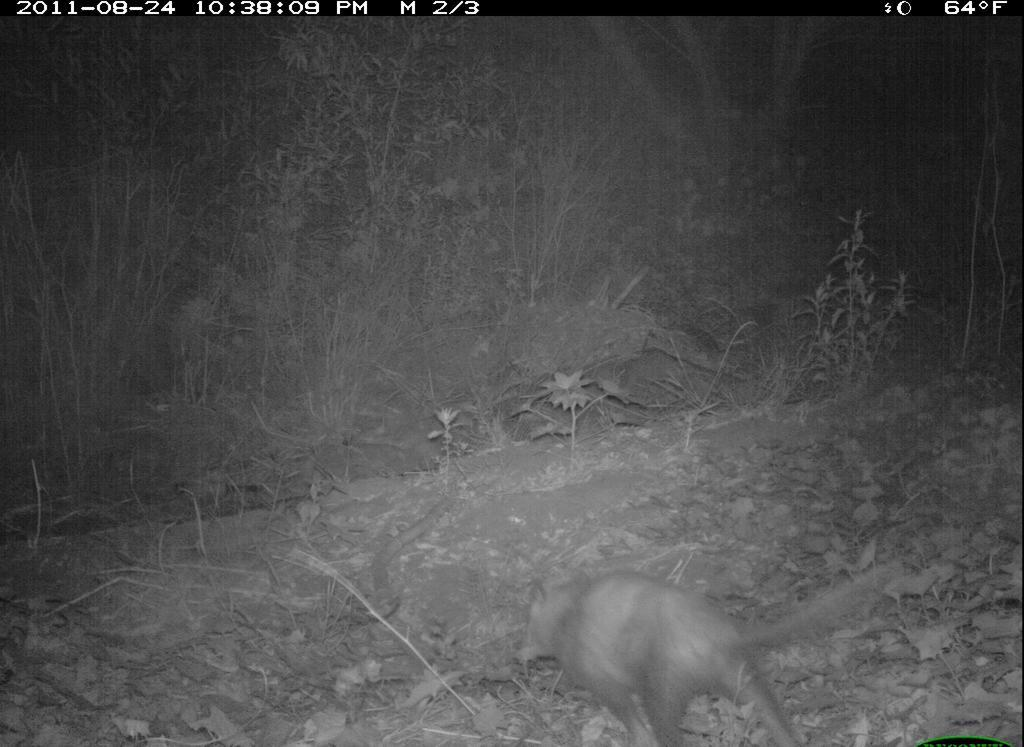opossum: (492, 536, 856, 738)
